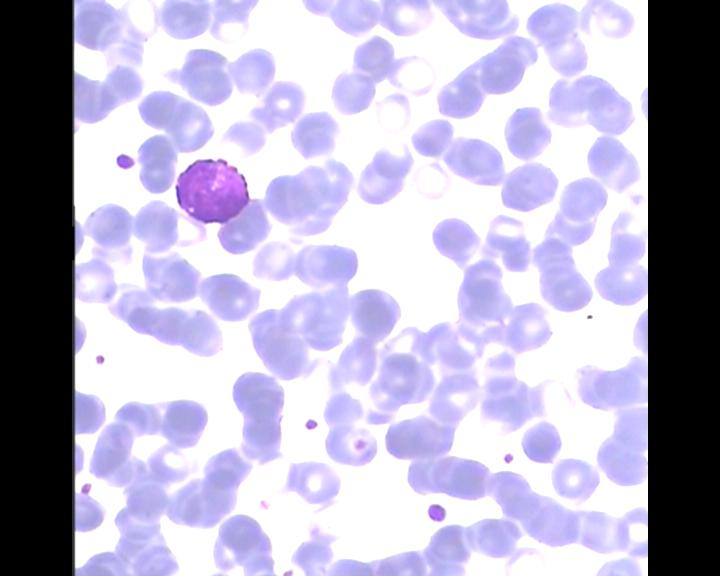baso: (170, 152, 255, 229)
